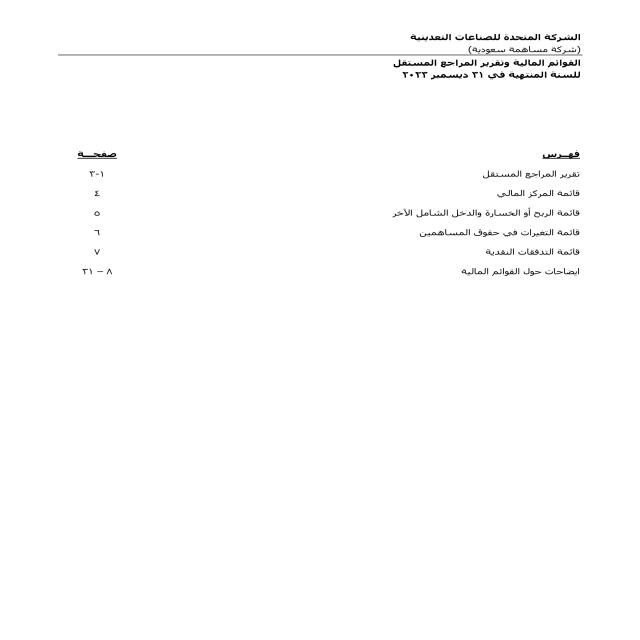other: (33, 132, 602, 305)
